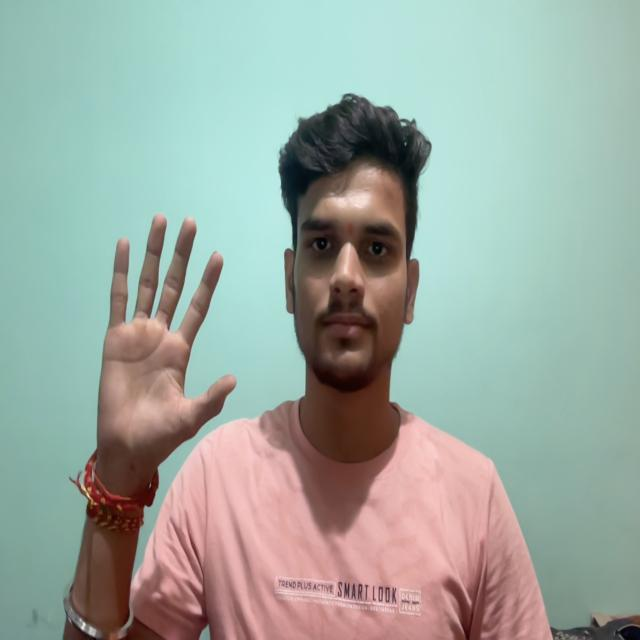hello: (58, 192, 250, 506)
